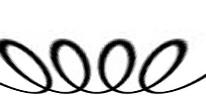inductor: (0, 34, 196, 96)
